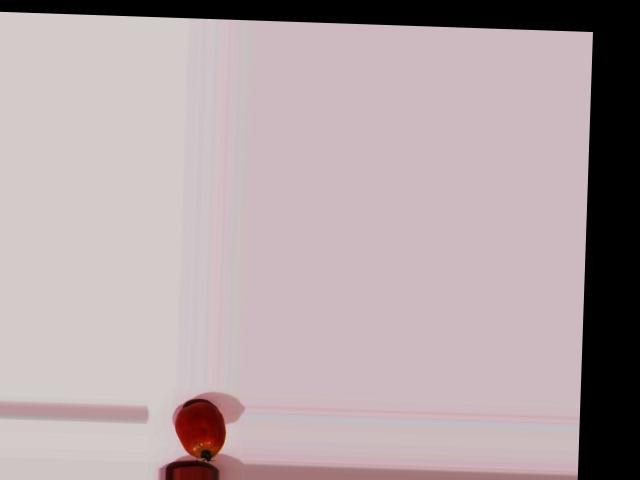tomato: (173, 401, 226, 459)
